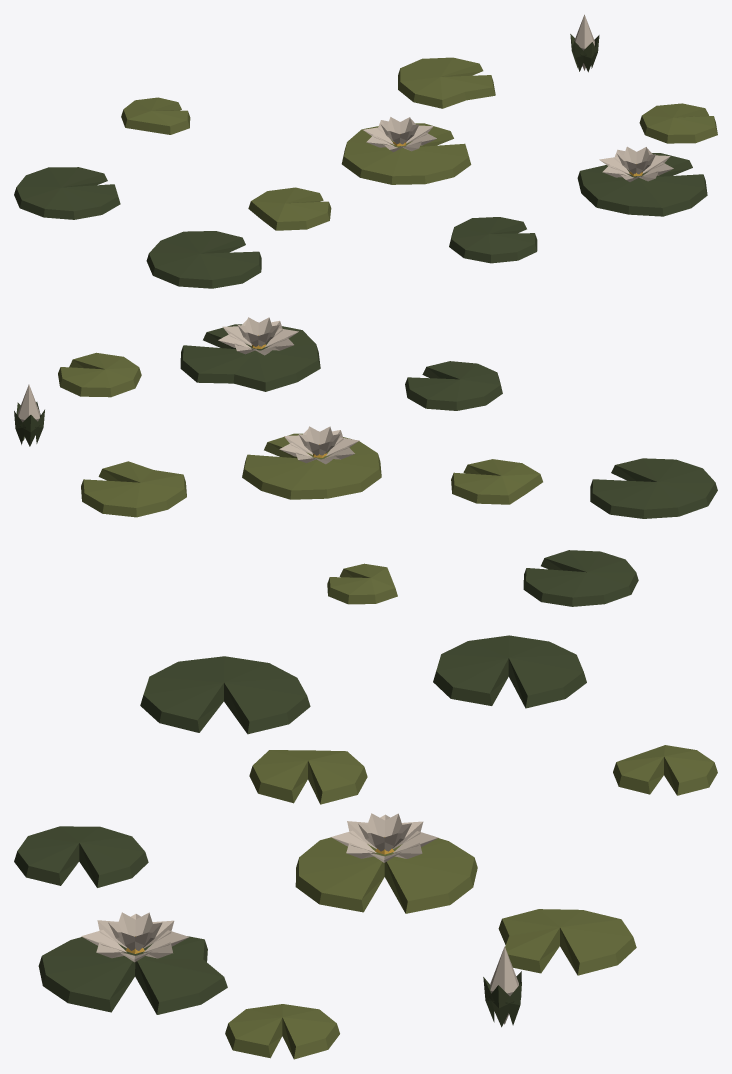
Rendered from lily-pads-b0c5d0.glb.
3 views of the same model, one above another, from view 1: azimuth 30°, elevation 25°; view 2: azimuth 150°, elevation 25°; view 3: azimuth 270°, elevation 25° (orthographic). The views are drawn at different scales.
Parts seen in each view (by area): view 1: lily-pads-drift, bud-0-mesh; view 2: lily-pads-drift, bud-0-mesh; view 3: lily-pads-drift, bud-0-mesh.
Part boxes in pixels (x1,y1,x2,y2): lily-pads-drift: (14,57,717,288); bud-0-mesh: (570,14,599,72); lily-pads-drift: (58,317,717,606); bud-0-mesh: (14,384,44,446); lily-pads-drift: (14,635,717,1059); bud-0-mesh: (483,946,521,1027).
Size of the model in its own units: 2.49 by 0.225 by 1.79.
